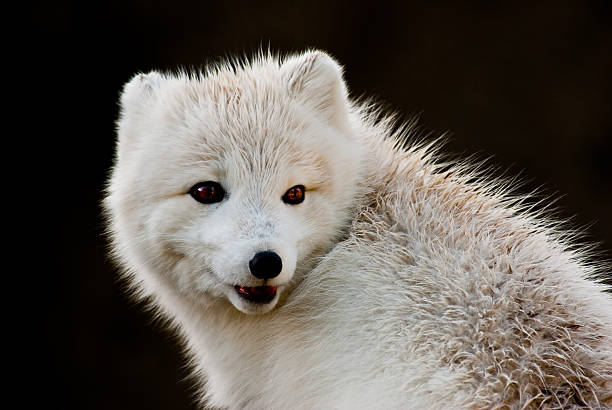arcticfox: (159, 103, 313, 319)
